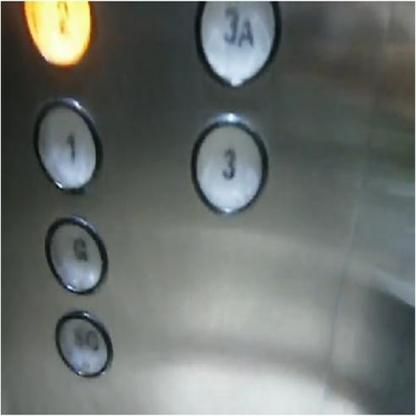1: (32, 96, 104, 198)
3: (188, 112, 269, 216)
3A: (193, 0, 279, 88)
G: (42, 213, 108, 296)
blur: (54, 308, 114, 380)
